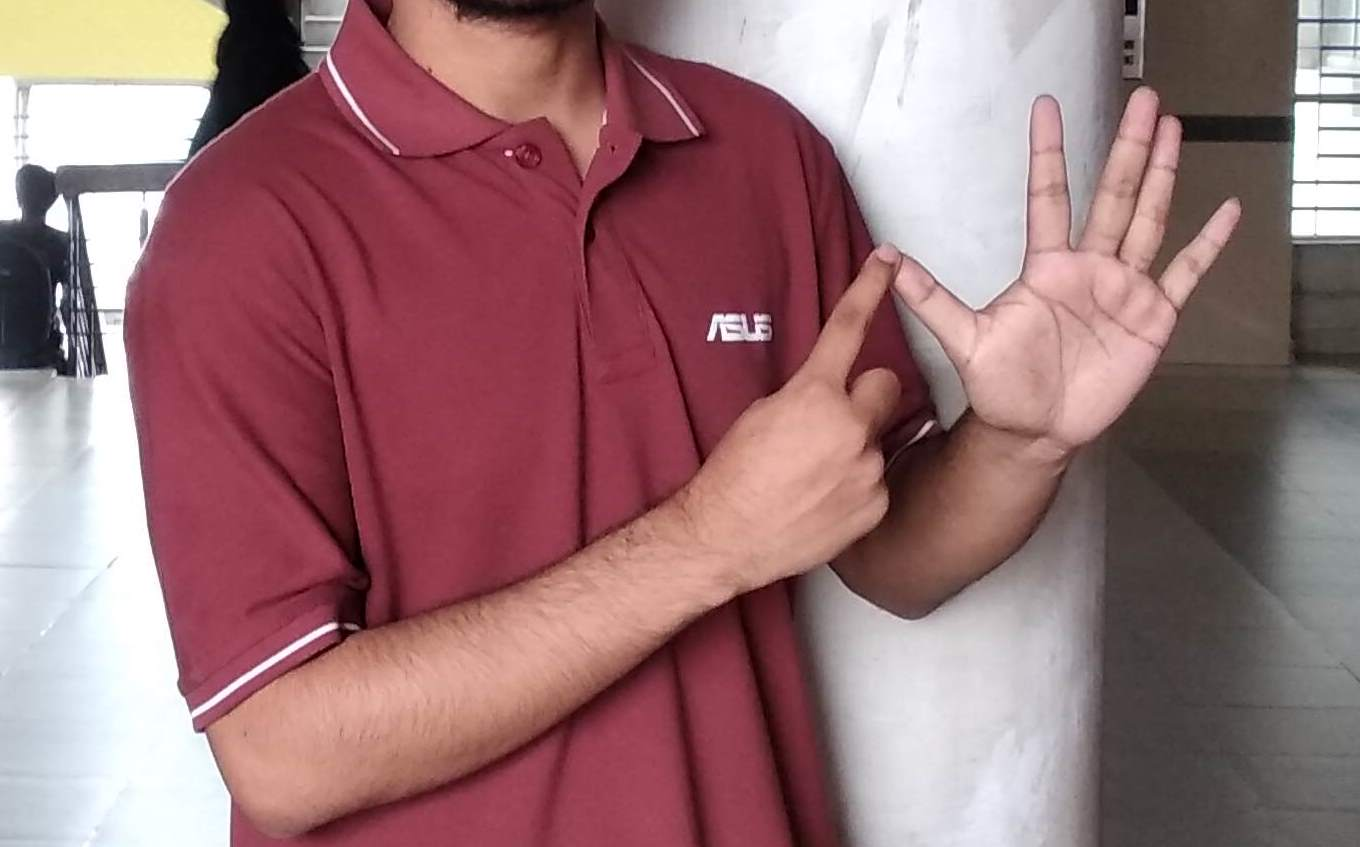a: (777, 94, 1229, 590)
